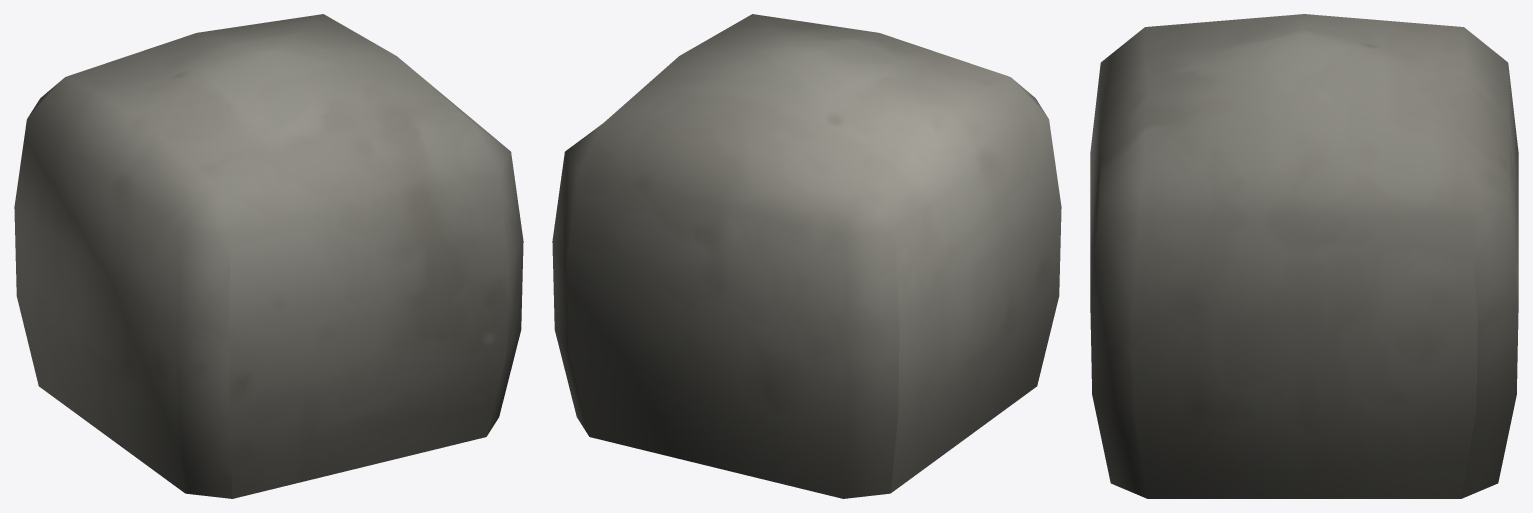
File: Env_mesh_Rock_001.FBX
The picture shows the model from 3 angles, left to right: view 1: azimuth 30°, elevation 25°; view 2: azimuth 150°, elevation 25°; view 3: azimuth 270°, elevation 25°; orthographic projection. The views are drawn at different scales.
Visible parts, largest first — view 1: Box078; view 2: Box078; view 3: Box078.
Boxes of the visible parts, x1,y1,x2,y2 form: Box078: [14, 14, 523, 498]; Box078: [552, 14, 1061, 498]; Box078: [1090, 14, 1518, 498].
Bounding box in the file's own units: 30.35 × 28.93 × 30.35.
